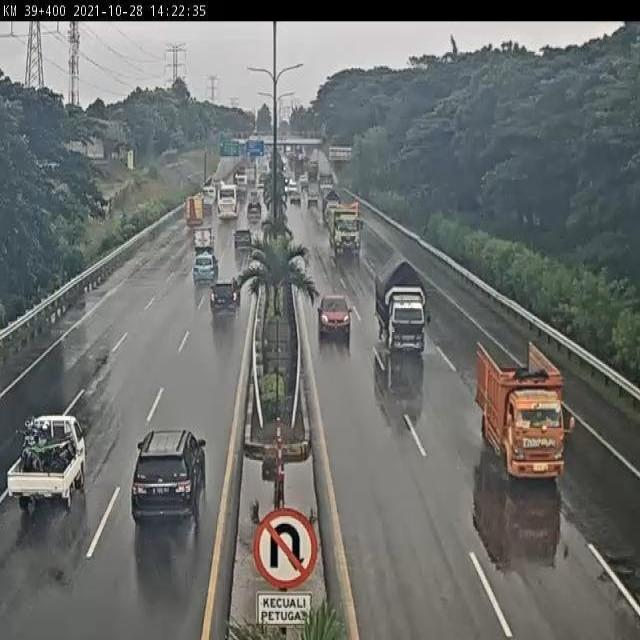Bus: (217, 183, 239, 222)
Car: (5, 411, 89, 517), (129, 429, 210, 528), (317, 294, 354, 345), (207, 275, 241, 315), (190, 252, 220, 286), (234, 227, 253, 252), (247, 200, 263, 218), (307, 190, 319, 207), (288, 191, 300, 207)
Truck: (472, 339, 576, 490), (374, 252, 434, 356), (326, 201, 365, 259), (186, 196, 206, 226), (193, 226, 216, 250)
